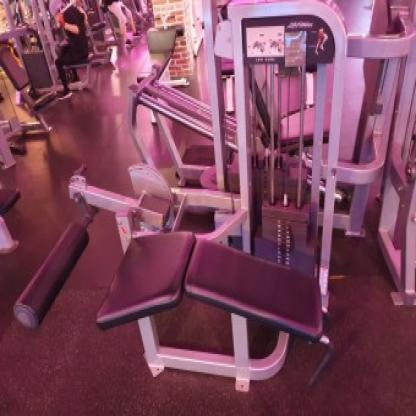reg curl machine: (9, 0, 349, 390)
